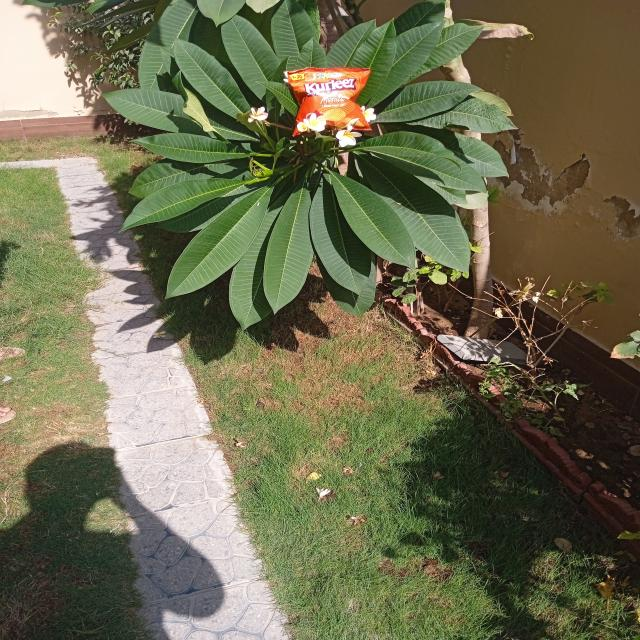Plastic: (290, 68, 374, 132)
